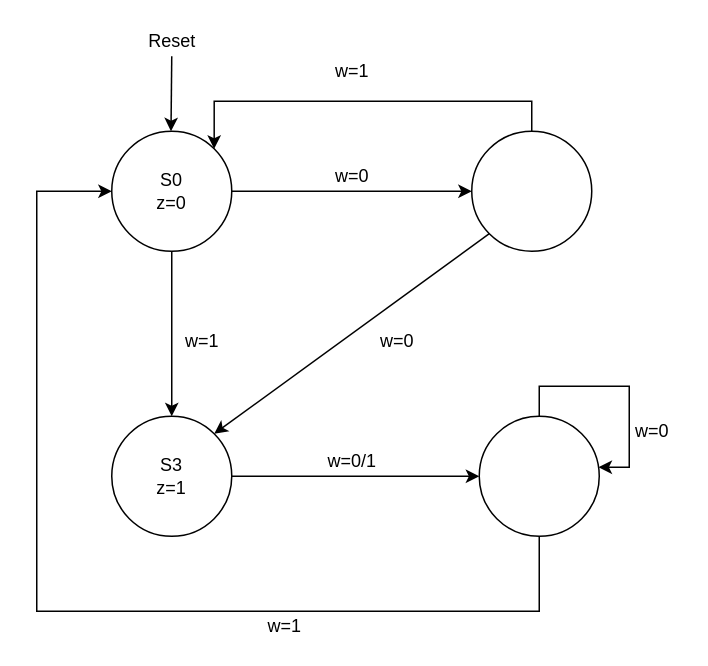
The diagram is 708 pixels wide and 666 high, and some of its shapes have lost their labels. The centre of each missing label's shape, as x and y in pixels:
"S1 z=0" goes at pixel 538 475.
"S2 z=0" goes at pixel 531 190.
